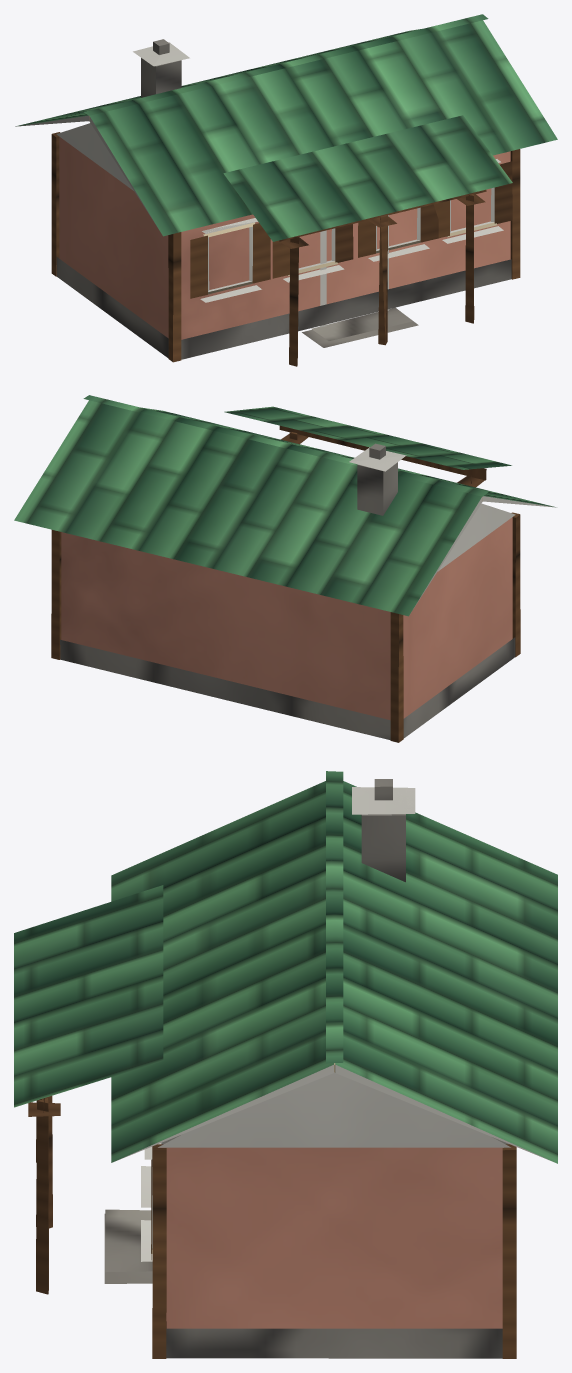
Rendered from Env_House_Farmhouse_C_LOD2.fbx.
3 renders of one model, top to bottom at view 1: azimuth 30°, elevation 25°; view 2: azimuth 150°, elevation 25°; view 3: azimuth 270°, elevation 25°, orthographic. The views are drawn at different scales.
Parts seen in each view (by area): view 1: Env_House_Farmhouse_C_LOD2; view 2: Env_House_Farmhouse_C_LOD2; view 3: Env_House_Farmhouse_C_LOD2.
Part boxes in pixels (x1,y1,x2,y2): Env_House_Farmhouse_C_LOD2: (15, 14, 557, 366); Env_House_Farmhouse_C_LOD2: (14, 395, 556, 742); Env_House_Farmhouse_C_LOD2: (14, 771, 557, 1358).
Size of the model in its own units: 702 by 553 by 428.
